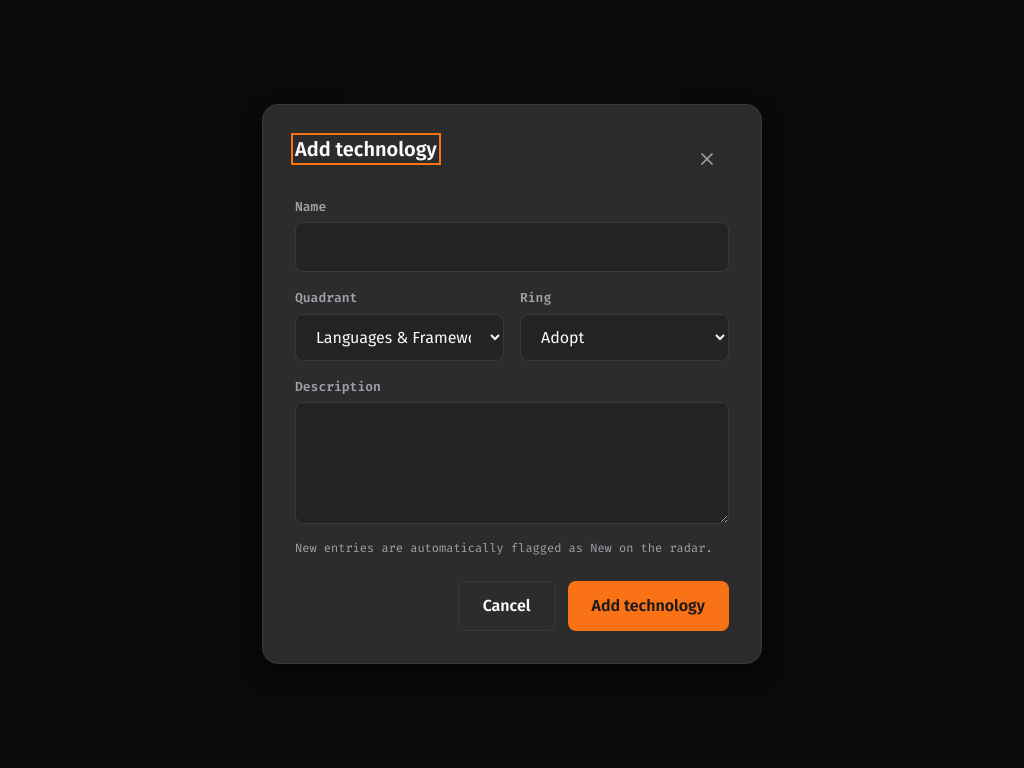
Test: EntryFormModal › blocks submission and surfaces every error when required fields are blank
The width and height of the screenshot is (1024, 768).
Click the button "Add technology": (648, 606) [568, 581, 729, 631]
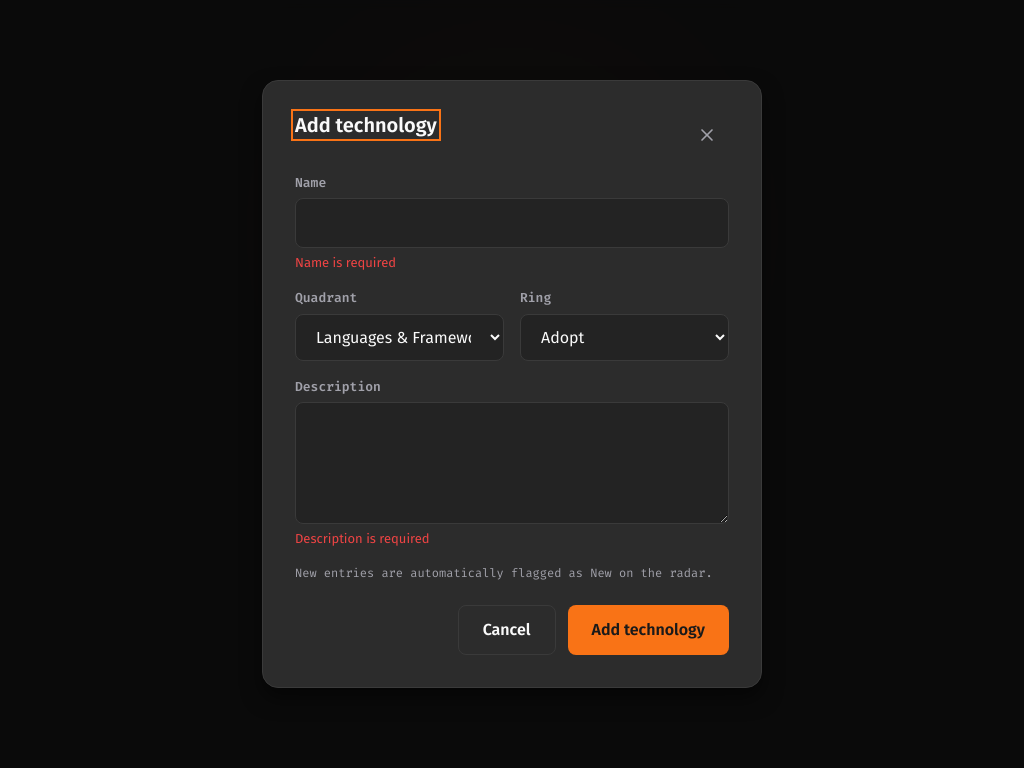
Check: the text "Name is required" is shown, box [295, 255, 396, 270]
Check: the text "Description is required" is shown, box [295, 531, 430, 546]
